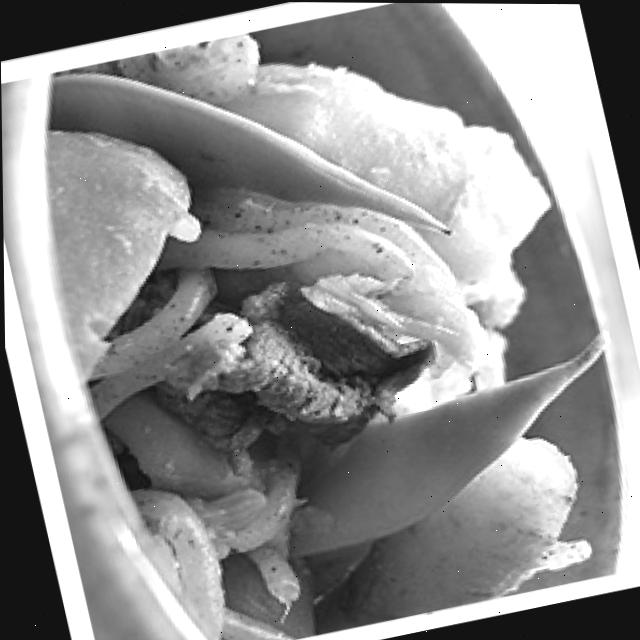牛肉菜式: (1, 0, 640, 640)
